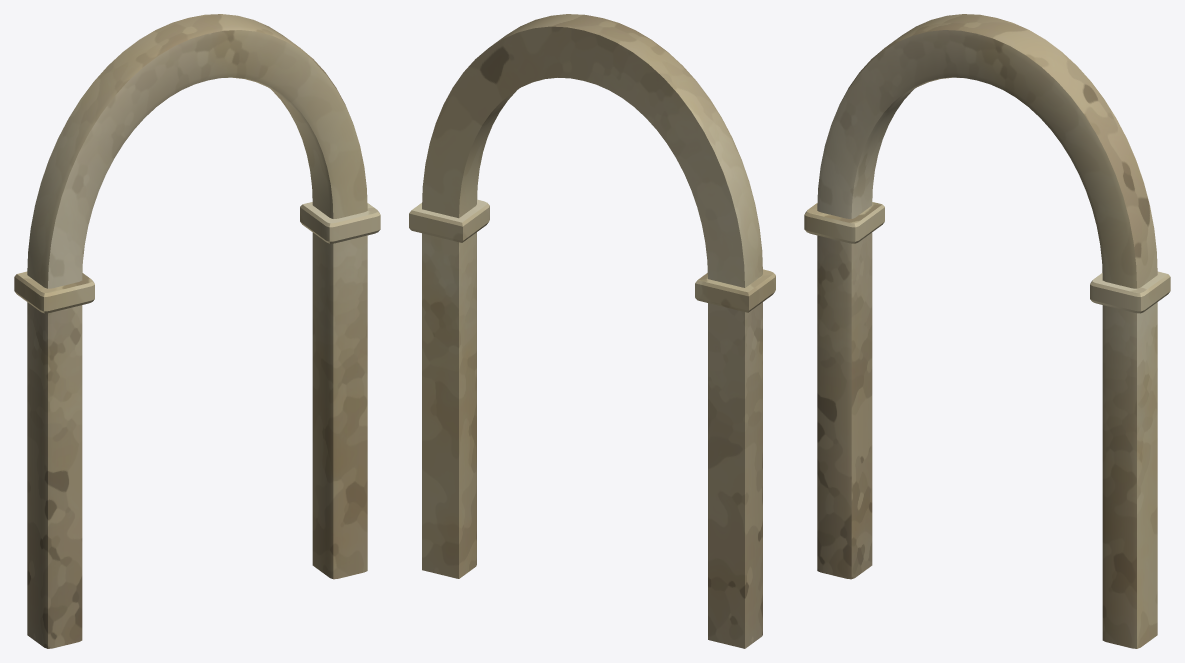
File: Arch_1.FBX
The picture shows the model from 3 angles, left to right: view 1: azimuth 30°, elevation 25°; view 2: azimuth 150°, elevation 25°; view 3: azimuth 330°, elevation 25°; orthographic projection.
Parts seen in each view (by area): view 1: Object102; view 2: Object102; view 3: Object102.
Boxes of the visible parts, x1,y1,x2,y2 form: Object102: [14, 14, 380, 648]; Object102: [409, 14, 775, 648]; Object102: [804, 14, 1170, 648].
Bounding box in the file's own units: 114 × 186 × 16.92.
